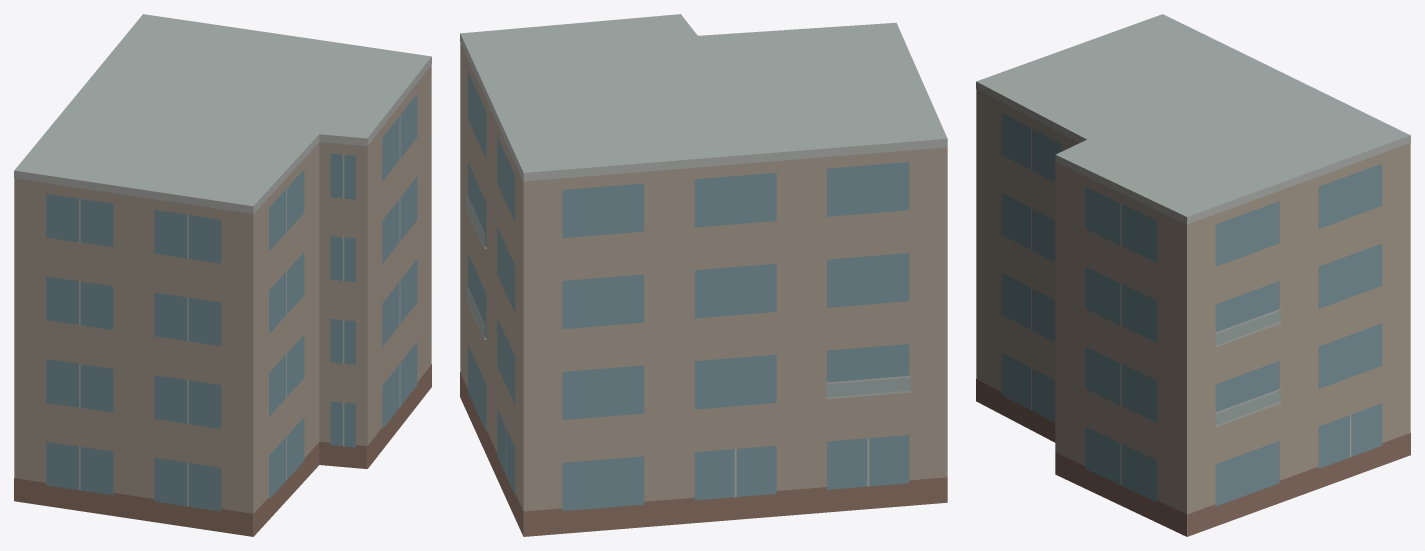
The model's file is survey-upis-32642502.glb.
3 renders of one model, left to right at view 1: azimuth 30°, elevation 25°; view 2: azimuth 150°, elevation 25°; view 3: azimuth 270°, elevation 25°, orthographic. The views are drawn at different scales.
Visible parts, largest first — view 1: survey-upis-32642502.tmp; view 2: survey-upis-32642502.tmp; view 3: survey-upis-32642502.tmp.
Boxes of the visible parts, x1,y1,x2,y2 form: survey-upis-32642502.tmp: (14,14,431,536); survey-upis-32642502.tmp: (460,14,947,536); survey-upis-32642502.tmp: (976,14,1410,536).
Bounding box in the file's own units: 14.17 × 10.4 × 12.82.
